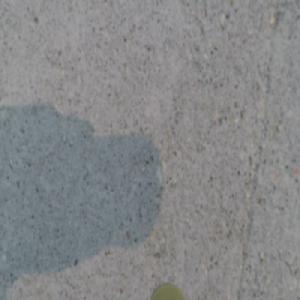Washer: (152, 283, 185, 299)
